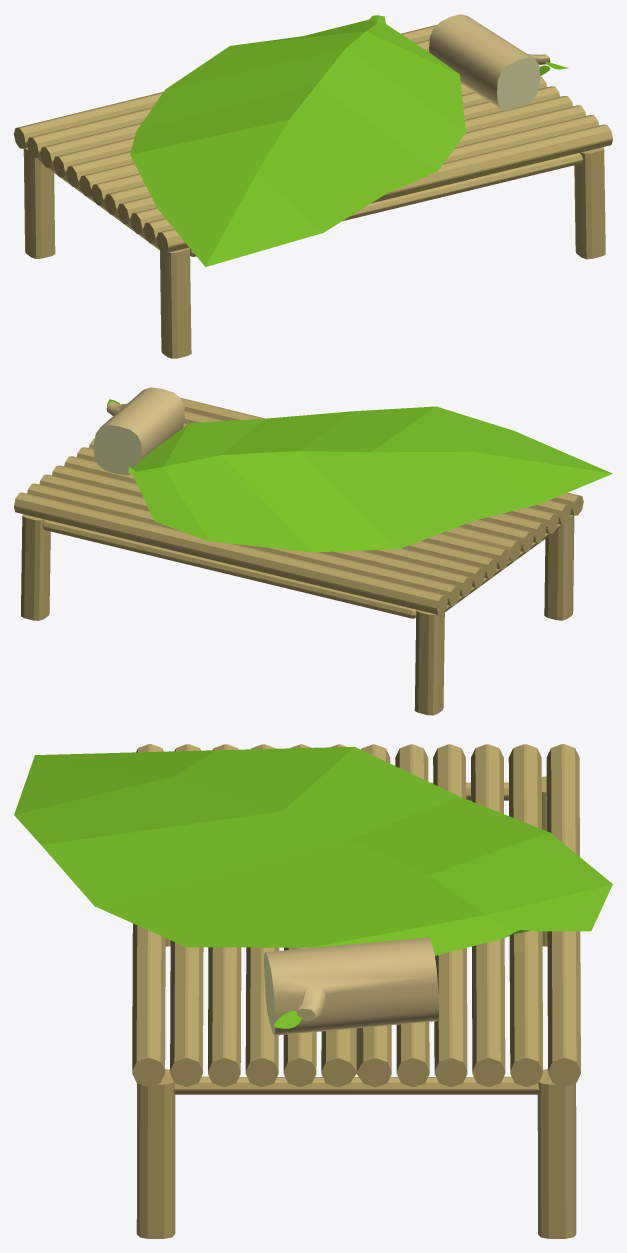
File: ベッド.fbx
3 renders of one model, top to bottom at view 1: azimuth 30°, elevation 25°; view 2: azimuth 150°, elevation 25°; view 3: azimuth 270°, elevation 25°, orthographic. The views are drawn at different scales.
Visible parts, largest first — view 1: ベッド; view 2: ベッド; view 3: ベッド.
Part boxes in pixels (<box>): ベッド: <box>14,14,612,358</box>; ベッド: <box>14,387,612,715</box>; ベッド: <box>14,744,612,1238</box>.
Bounding box in the file's own units: 30.23 × 11.39 × 24.1.
